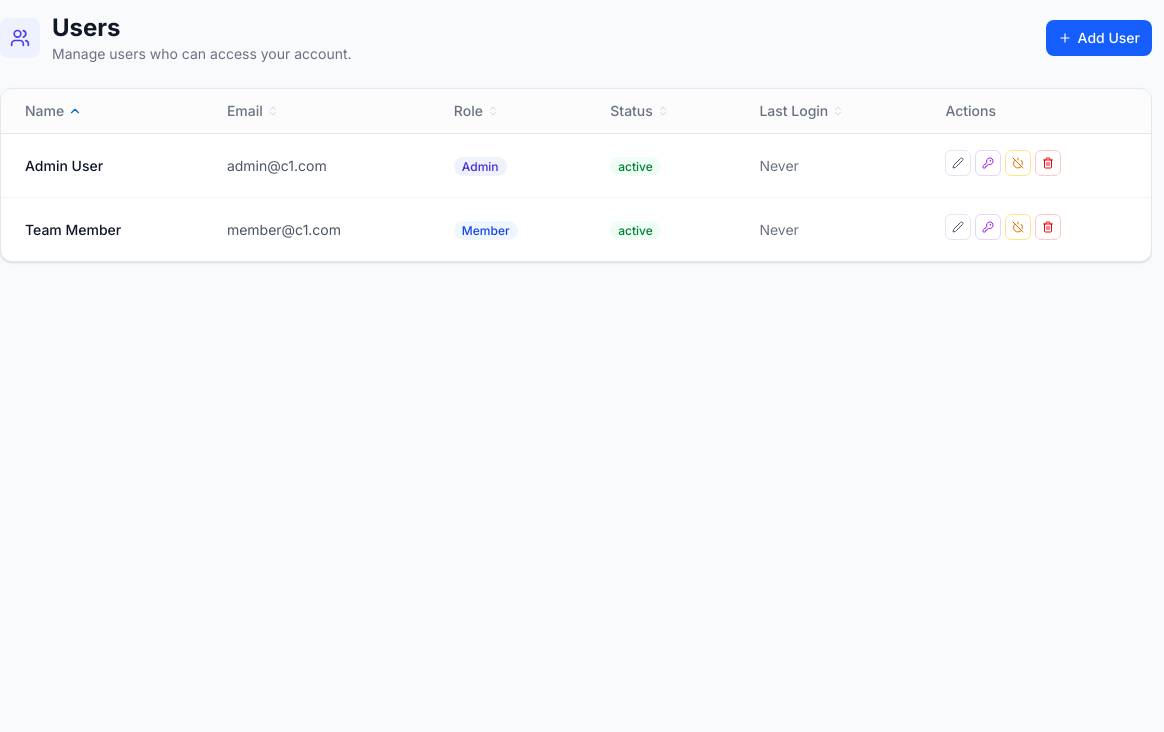
it: SubUsers Page › as client_admin › renders the role selector in the create form
Click the button with test id "add-user-button" at [1099, 38], box [1046,20,1152,56]
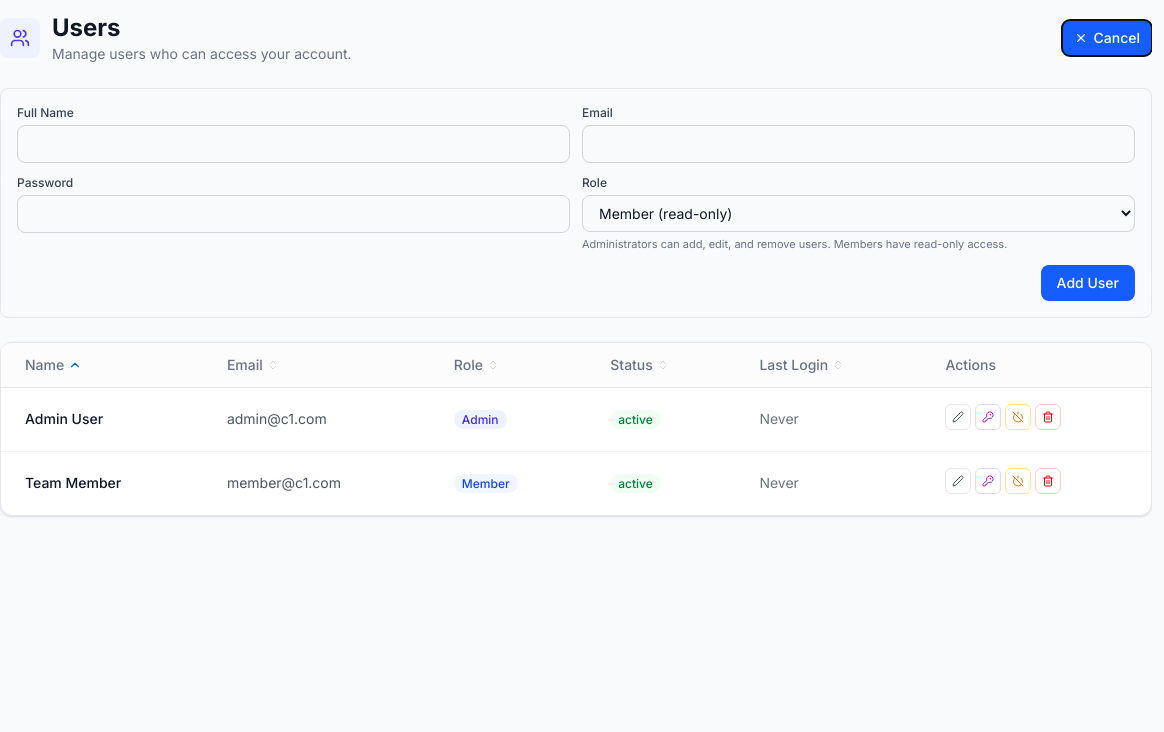
Expected: the dropdown with test id "user-role-select" shows "Member (read-only)", [582,195,1135,232]
